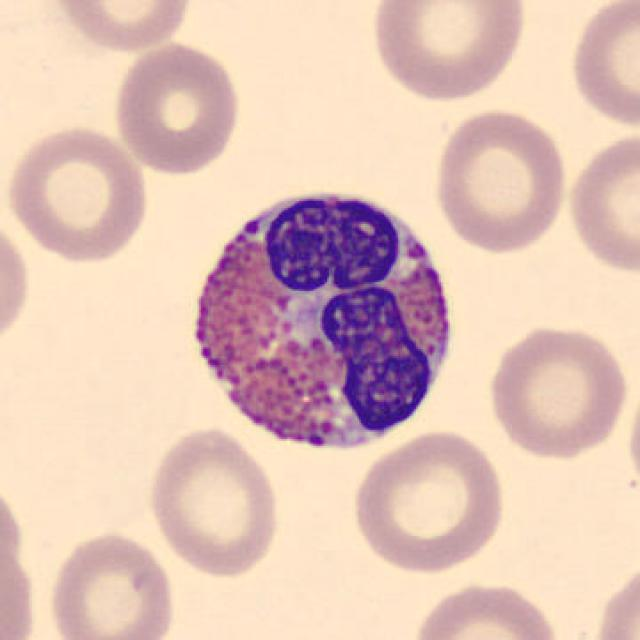Eosinophil: (172, 169, 470, 467)
RBC: (347, 425, 510, 575), (143, 423, 284, 580), (2, 120, 153, 266), (428, 104, 570, 256), (482, 321, 631, 462), (110, 39, 246, 176), (366, 0, 532, 104), (42, 527, 180, 640), (562, 125, 638, 279), (564, 0, 638, 132), (407, 578, 564, 640), (44, 0, 198, 55), (0, 501, 41, 638), (0, 210, 34, 354), (588, 553, 638, 640), (624, 348, 640, 510)
